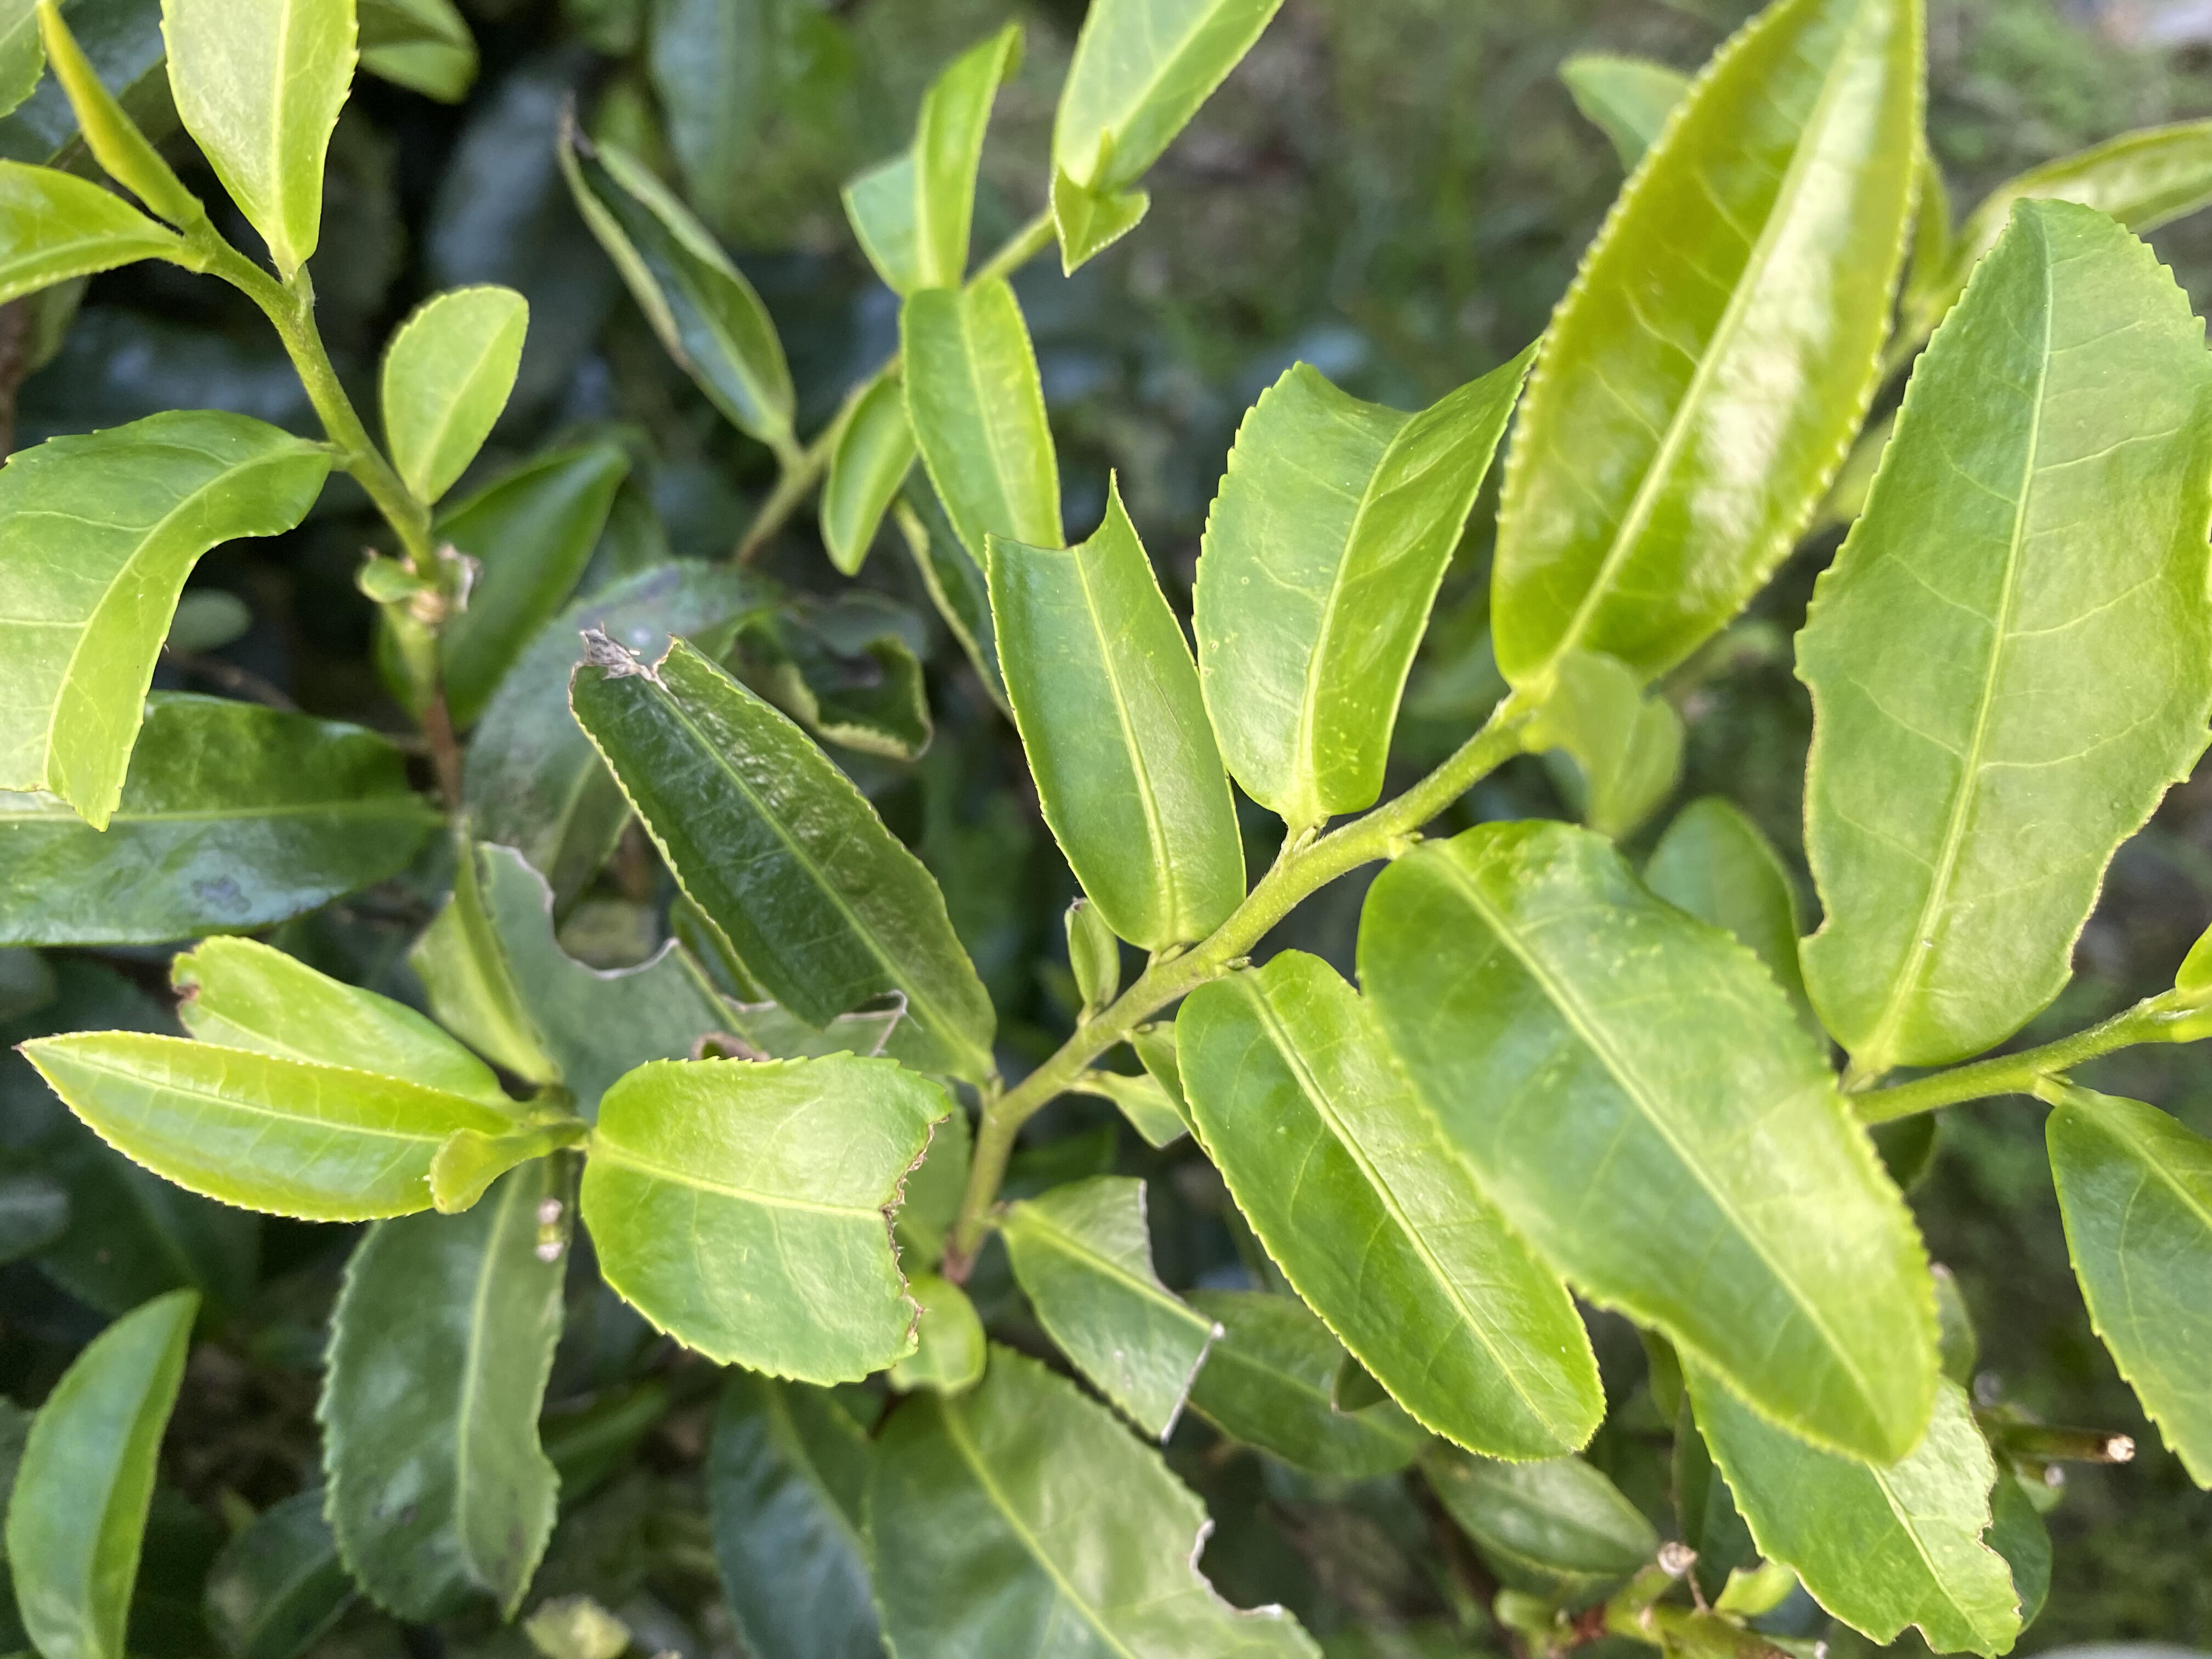chihuo_high: (1792, 192, 2210, 1068), (568, 624, 1003, 1079), (1190, 326, 1545, 840), (981, 464, 1251, 953), (578, 1046, 958, 1391), (1672, 1349, 2027, 1652), (998, 1175, 1226, 1445)
chihuo_low: (855, 1340, 1331, 1652)
healthy: (1353, 814, 1940, 1467), (1487, 5, 1930, 692), (1176, 948, 1609, 1466)
tanju_low: (172, 931, 498, 1110)
